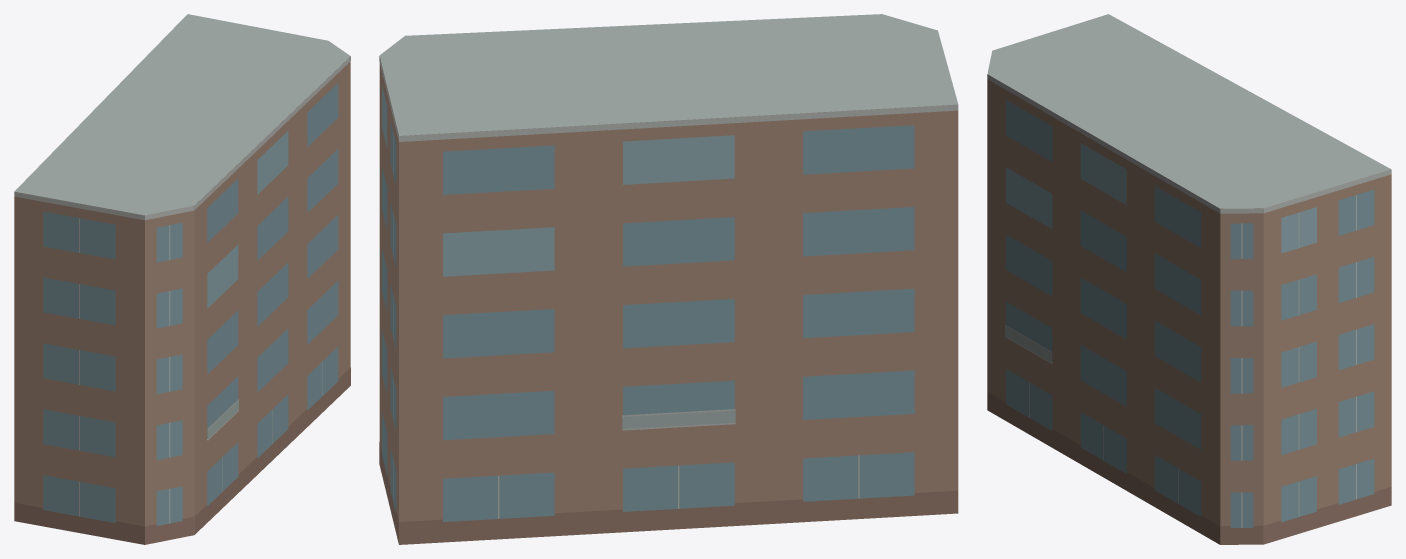
File: survey-upis-32584064.glb
The picture shows the model from 3 angles, left to right: view 1: azimuth 30°, elevation 25°; view 2: azimuth 150°, elevation 25°; view 3: azimuth 270°, elevation 25°; orthographic projection. The views are drawn at different scales.
Visible parts, largest first — view 1: survey-upis-32584064.tmp; view 2: survey-upis-32584064.tmp; view 3: survey-upis-32584064.tmp.
Part boxes in pixels (box(x1,y1,x2,y2)): survey-upis-32584064.tmp: box(14, 14, 350, 544); survey-upis-32584064.tmp: box(379, 14, 958, 544); survey-upis-32584064.tmp: box(987, 14, 1391, 544).
Size of the model in its own units: 20.51 by 16.5 by 17.99.
